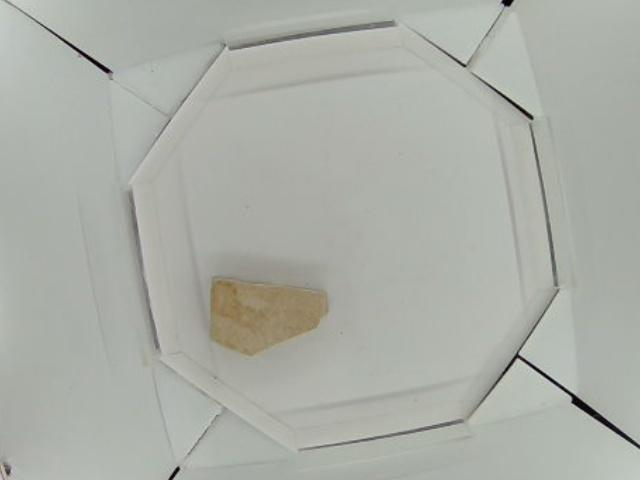China: (208, 275, 326, 350)
